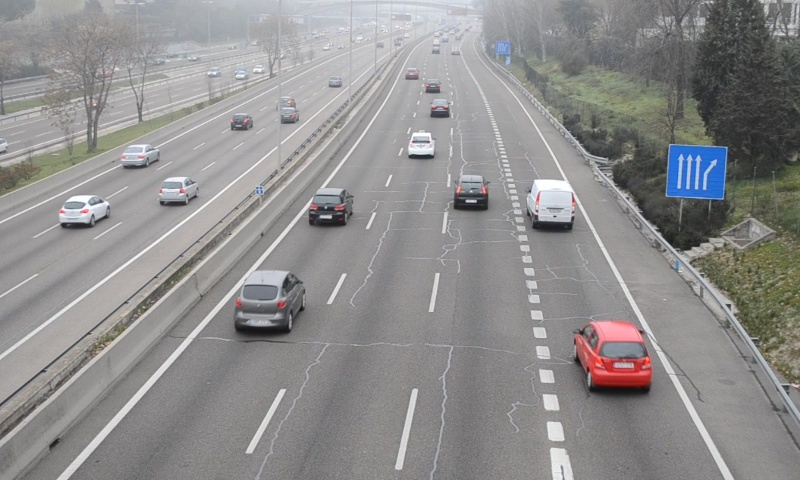car: (574, 320, 653, 389), (234, 271, 306, 328), (306, 187, 354, 224), (454, 174, 489, 210), (406, 131, 435, 155), (429, 98, 451, 118), (426, 78, 442, 93)
van: (527, 179, 575, 228)
